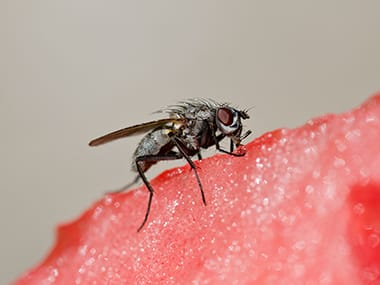house fly: (85, 94, 254, 234)
